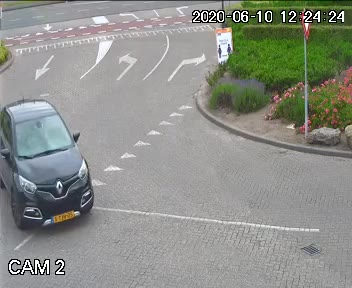car: (0, 91, 103, 239)
